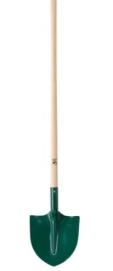PELLE: (15, 0, 86, 271)
